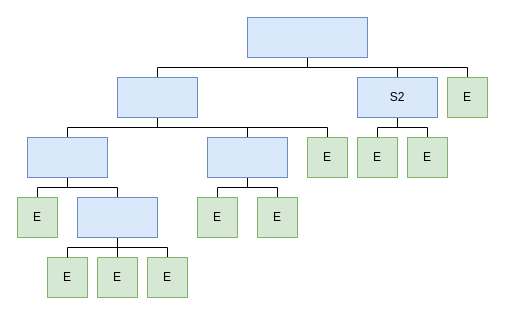
Some shapes in this 505 by 315 pixel diagram are drawn without their labels. Here are the shapes that lost their labels. From the top down, the centre of each, then its label:
At [307,37]: "System of Interest (SoI)".
At [157,97]: "S1".
At [67,157]: "S1.1".
At [247,157]: "S1.2".
At [117,217]: "S1.1.1".
